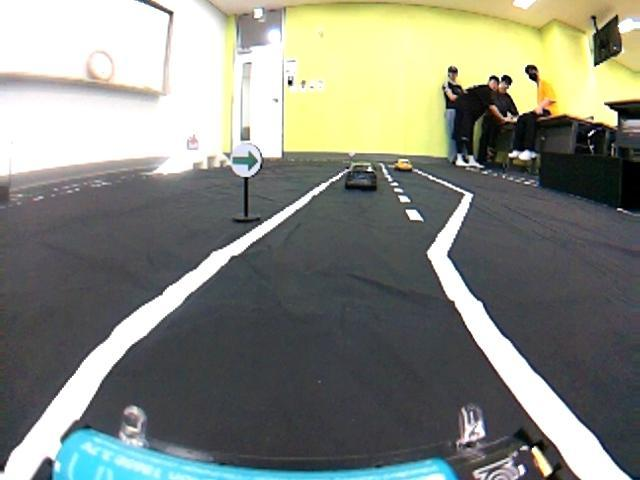car: (345, 160, 379, 192), (393, 158, 415, 173)
right: (4, 228, 631, 480)
sign_right: (231, 141, 263, 177)
